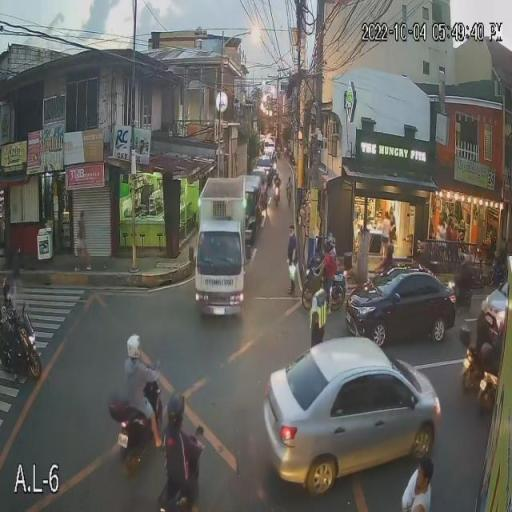helmet: (166, 392, 184, 415), (126, 334, 142, 358), (459, 328, 474, 345), (323, 232, 335, 246)
motorcycle: (108, 378, 164, 474), (160, 421, 205, 512), (460, 328, 502, 418), (0, 299, 42, 385), (299, 263, 349, 312)
rider: (158, 393, 204, 512), (122, 334, 164, 446), (460, 326, 497, 389), (0, 277, 18, 338), (322, 242, 339, 296), (270, 175, 281, 204)
